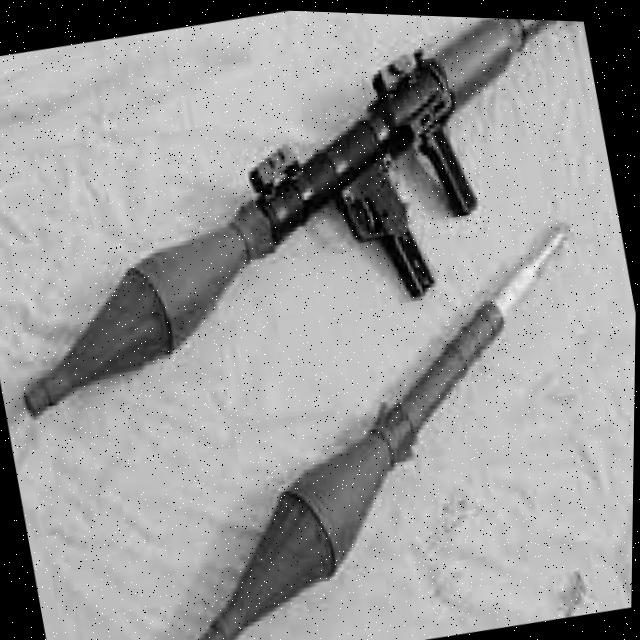rocket: (0, 0, 640, 438)
